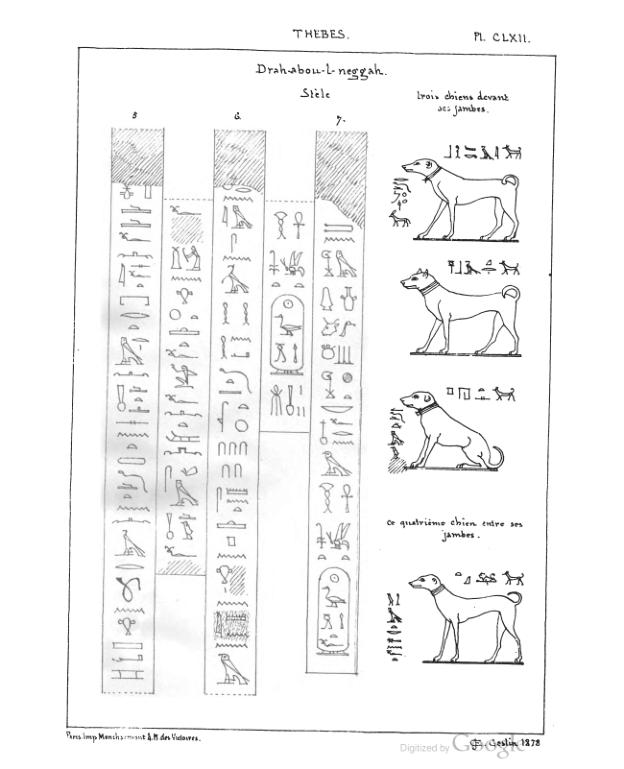circle: (267, 292, 308, 381), (315, 563, 350, 663)
